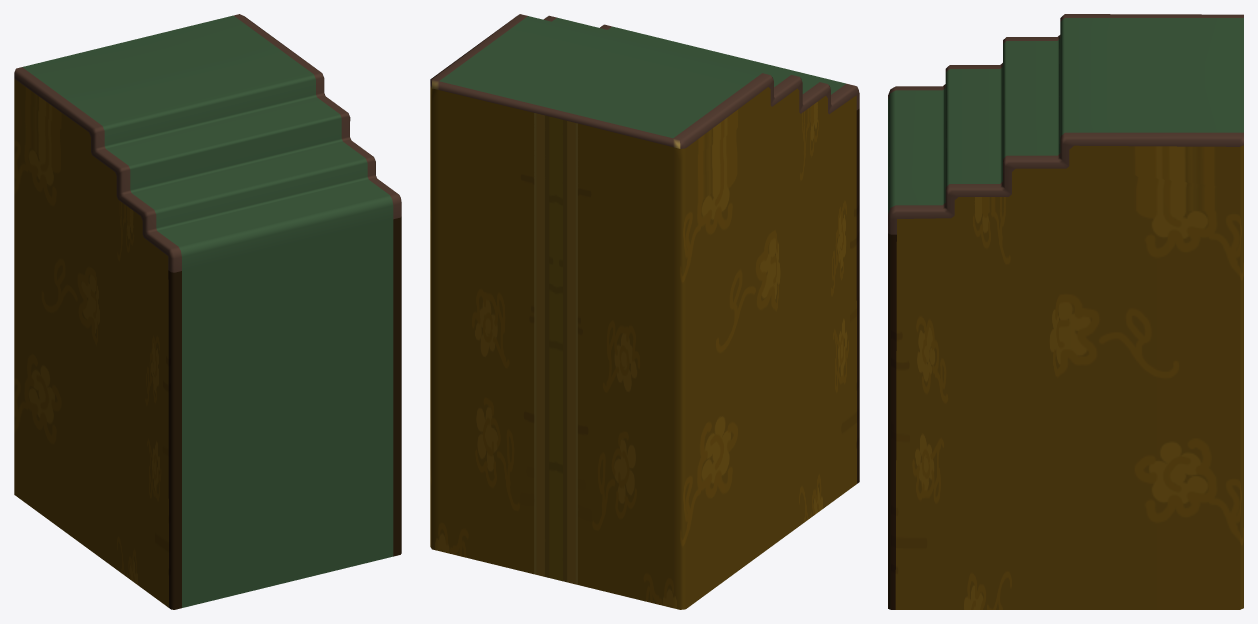
The model's file is stairs_wide.gltf.
The picture shows the model from 3 angles, left to right: view 1: azimuth 30°, elevation 25°; view 2: azimuth 150°, elevation 25°; view 3: azimuth 270°, elevation 25°; orthographic projection. The views are drawn at different scales.
Parts seen in each view (by area): view 1: Cube.001; view 2: Cube.001; view 3: Cube.001.
Part boxes in pixels (bbox=[...]): Cube.001: bbox=[14, 14, 401, 609]; Cube.001: bbox=[430, 14, 859, 609]; Cube.001: bbox=[888, 14, 1243, 609].
Bounding box in the file's own units: 2.91 × 5.11 × 3.49.
3 materials, 1 textured.
